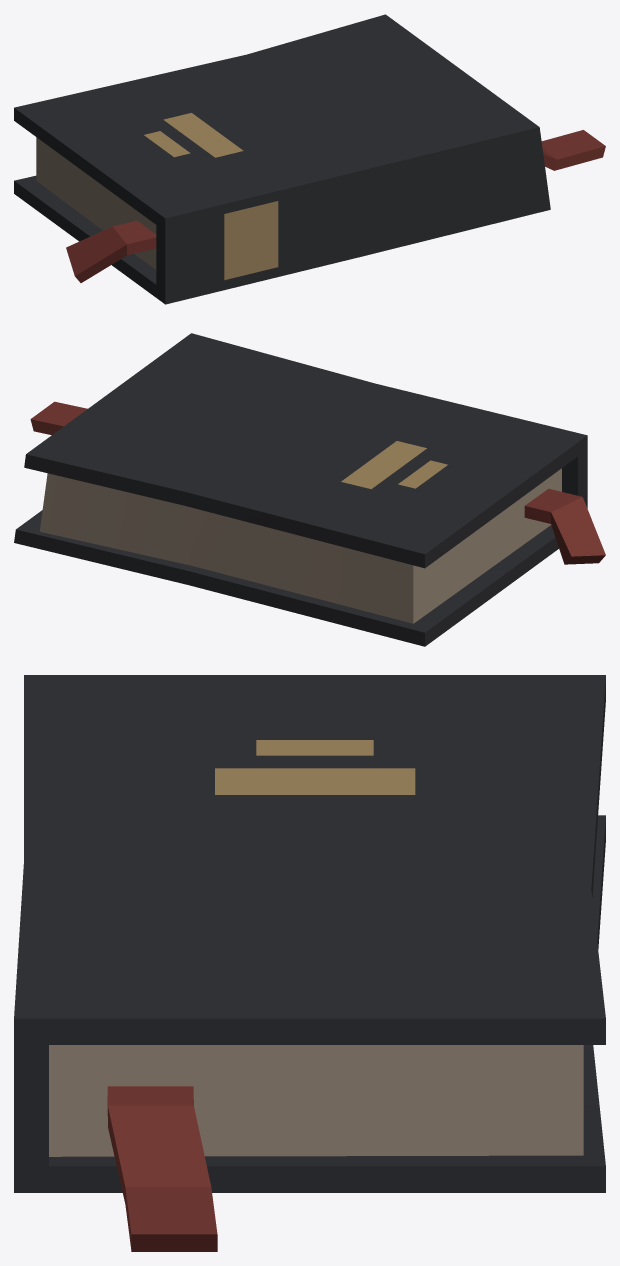
The model's file is apoc_SM_Item_Book_01.gltf.
The picture shows the model from 3 angles, top to bottom: view 1: azimuth 30°, elevation 25°; view 2: azimuth 150°, elevation 25°; view 3: azimuth 270°, elevation 25°; orthographic projection. The views are drawn at different scales.
Visible parts, largest first — view 1: SM_Item_Book_01; view 2: SM_Item_Book_01; view 3: SM_Item_Book_01.
Part boxes in pixels (x1,y1,x2,y2): SM_Item_Book_01: [14, 14, 605, 304]; SM_Item_Book_01: [14, 333, 605, 646]; SM_Item_Book_01: [14, 675, 605, 1251].
Bounding box in the file's own units: 0.5216 × 0.0846 × 0.2665.
1 material, 1 textured.
